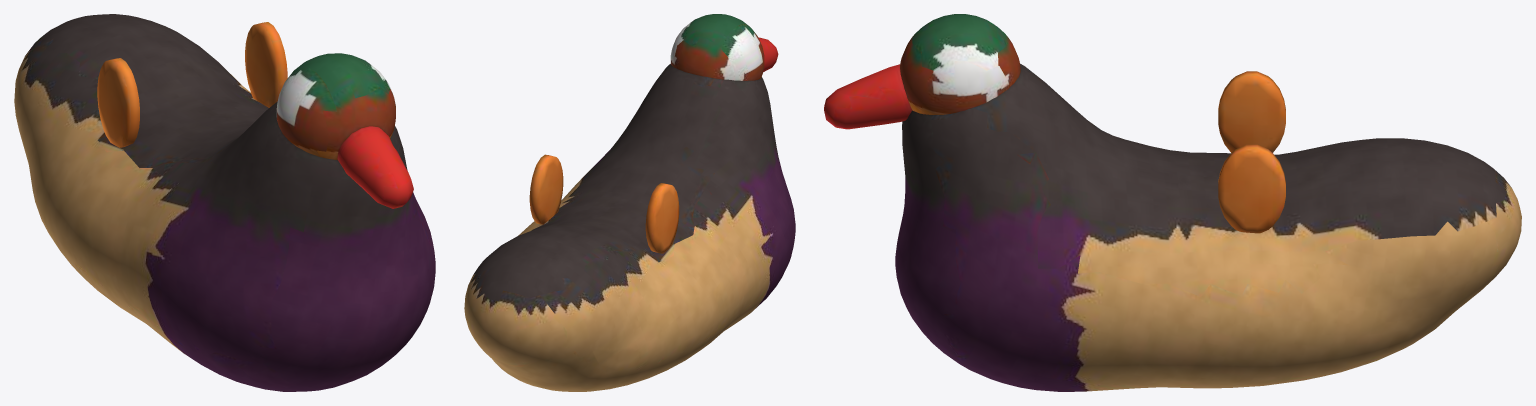
Rendered from animal_mandarin_duck.glb.
The picture shows the model from 3 angles, left to right: view 1: azimuth 30°, elevation 25°; view 2: azimuth 150°, elevation 25°; view 3: azimuth 270°, elevation 25°; orthographic projection. The views are drawn at different scales.
Parts seen in each view (by area): view 1: animal_mandarin_duck, head; view 2: animal_mandarin_duck, head; view 3: animal_mandarin_duck, head.
Boxes of the visible parts, left/top/right/bottom form: animal_mandarin_duck: left=14, top=14, right=435, bottom=391; head: left=276, top=53, right=413, bottom=208; animal_mandarin_duck: left=464, top=64, right=795, bottom=391; head: left=670, top=14, right=778, bottom=80; animal_mandarin_duck: left=895, top=63, right=1521, bottom=391; head: left=824, top=14, right=1020, bottom=129.
Size of the model in its own units: 0.1196 by 0.1545 by 0.2743.
1 material, 1 textured.
